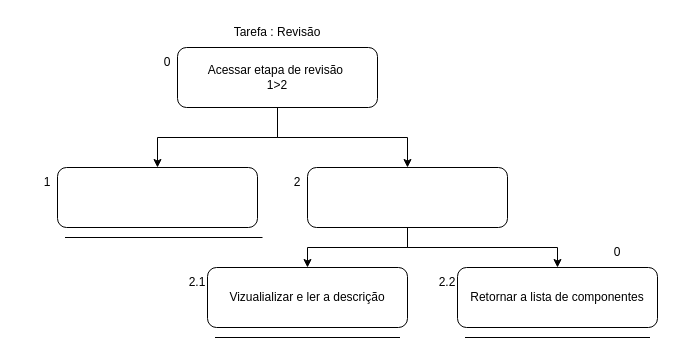
This 675x356 diagram has some shape labels left out. The centre of each missing label's shape, as x and y in pixels:
"Lista de Componentes" belongs at point (157, 197).
"Selecionar um Componente 1+2" belongs at point (407, 197).
